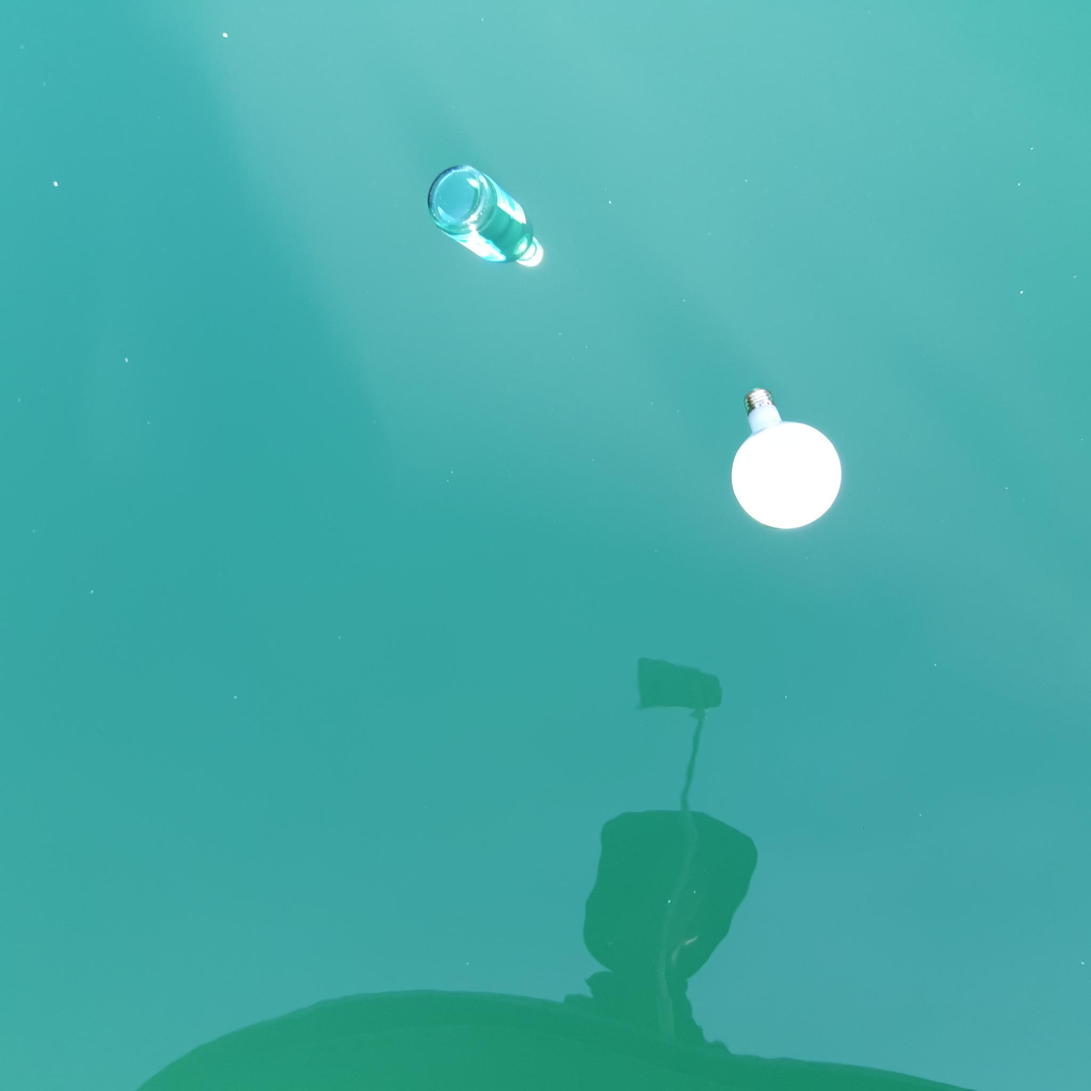sampah_terapung: (731, 388, 842, 529), (428, 166, 544, 267)
